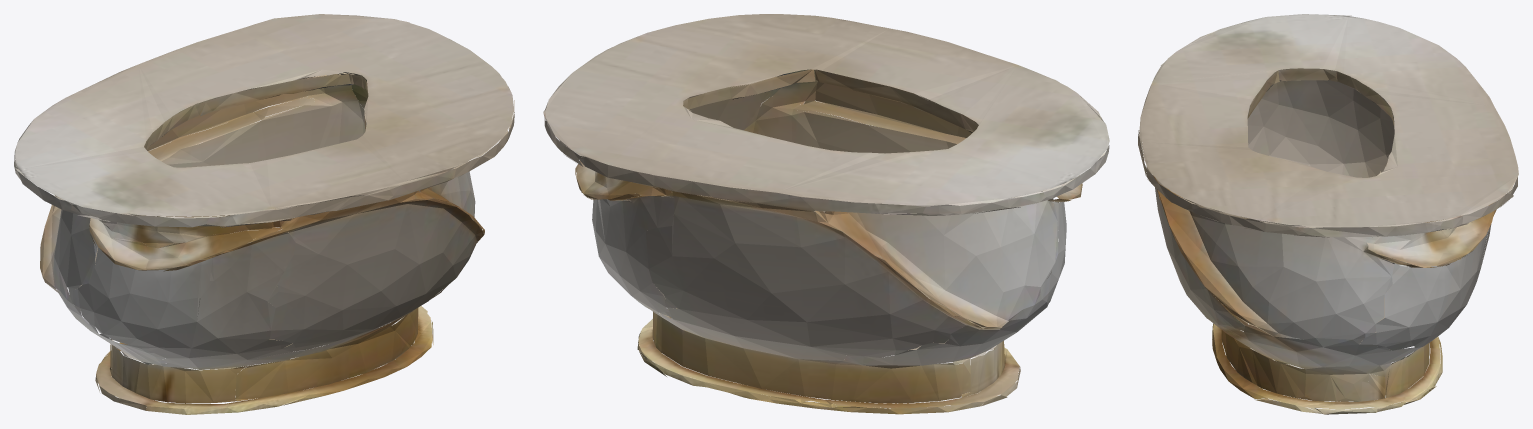
Rendered from k-ilot.glb.
3 views of the same model, side by side, from view 1: azimuth 30°, elevation 25°; view 2: azimuth 150°, elevation 25°; view 3: azimuth 270°, elevation 25° (orthographic). The views are drawn at different scales.
Parts seen in each view (by area): view 1: geometry_0; view 2: geometry_0; view 3: geometry_0.
Boxes of the visible parts, box(x1,y1,x2,y2) form: geometry_0: box(14, 14, 514, 414); geometry_0: box(543, 14, 1109, 414); geometry_0: box(1138, 14, 1518, 414).
Size of the model in its own units: 0.9996 by 0.4792 by 0.7545.
1 material, 1 textured.
